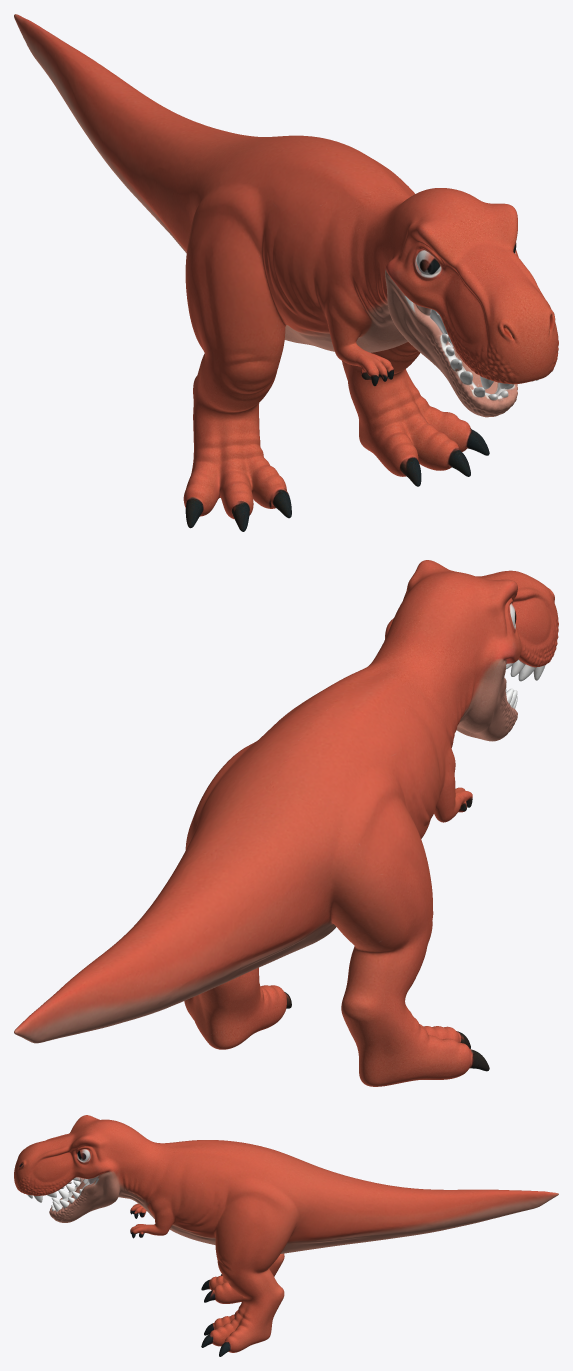
File: T_Rex.glb
3 views of the same model, one above another, from view 1: azimuth 30°, elevation 25°; view 2: azimuth 150°, elevation 25°; view 3: azimuth 270°, elevation 25° (orthographic). The views are drawn at different scales.
Bounding box in the file's own units: 0.6367 × 0.7677 × 1.91.
1 material, 1 textured.
